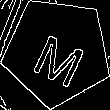M_NE: (26, 19, 89, 84)
